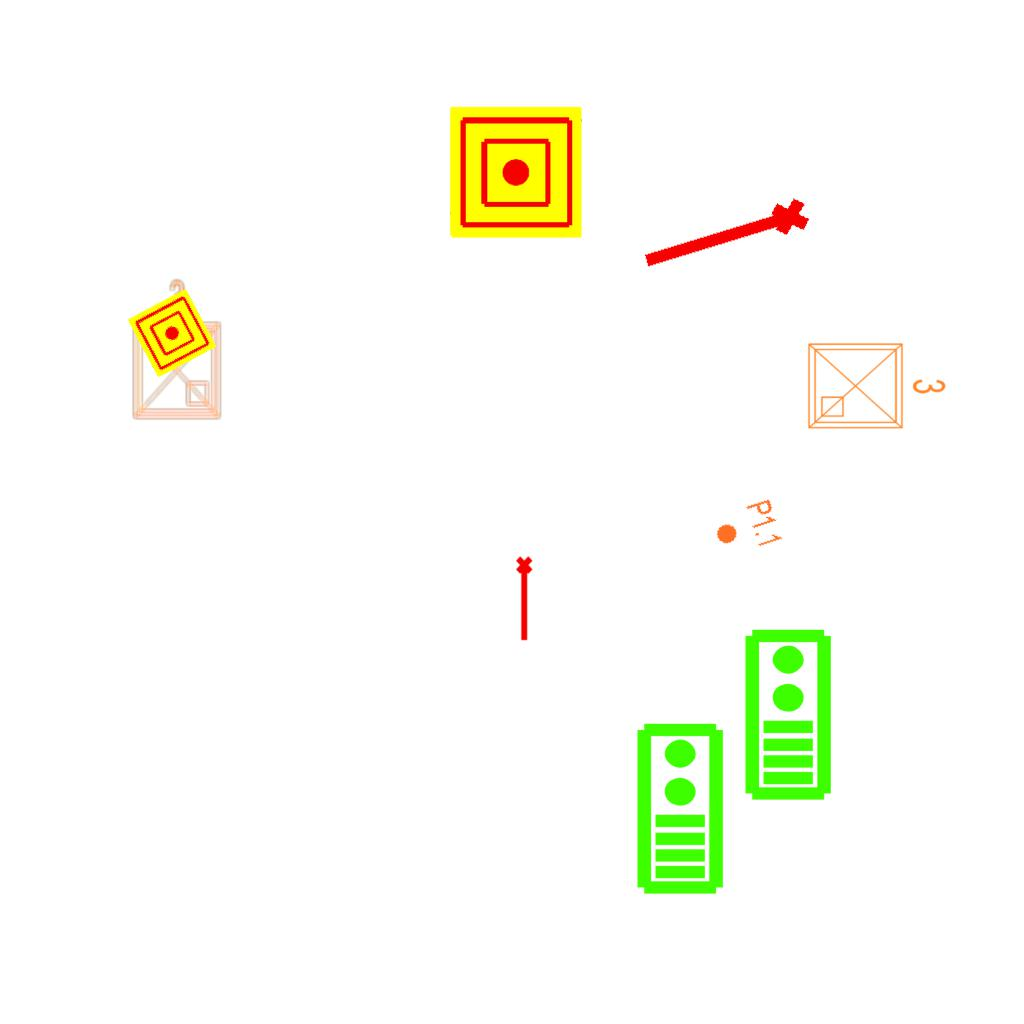ASR_Ansaugoeffnung: (635, 191, 817, 287), (514, 555, 537, 643)
Downlight_LED_Einbauleuchten_Flur: (709, 497, 785, 561)
Einbaudownlights_LED_Konferenzraeume: (123, 275, 227, 425), (801, 332, 951, 436)
Gegensprechanlage_mit_Video: (631, 720, 726, 896), (739, 626, 834, 802)
NAM-Nichtautomatischer_Melder: (450, 106, 582, 238), (127, 288, 217, 378)
